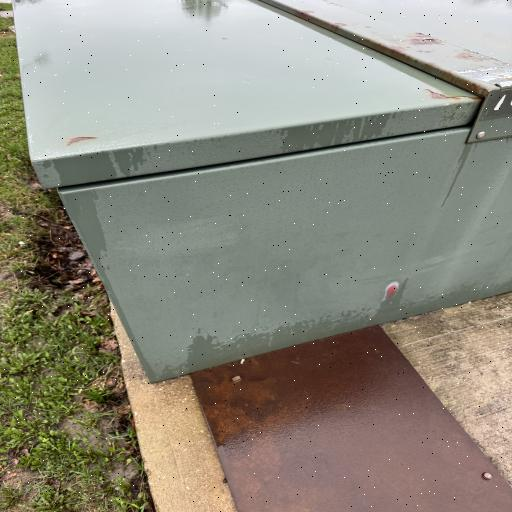Electrical Box: (14, 1, 512, 382)
